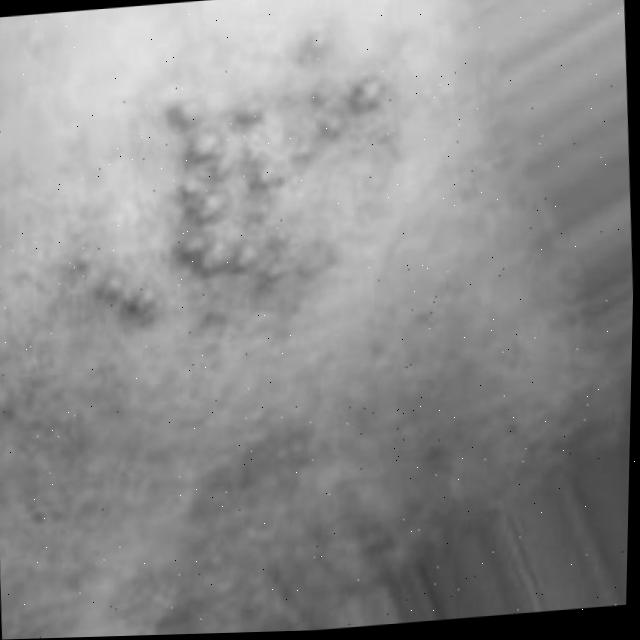Shingles: (49, 66, 402, 335)
